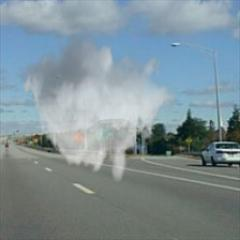smoke: (20, 26, 177, 183)
